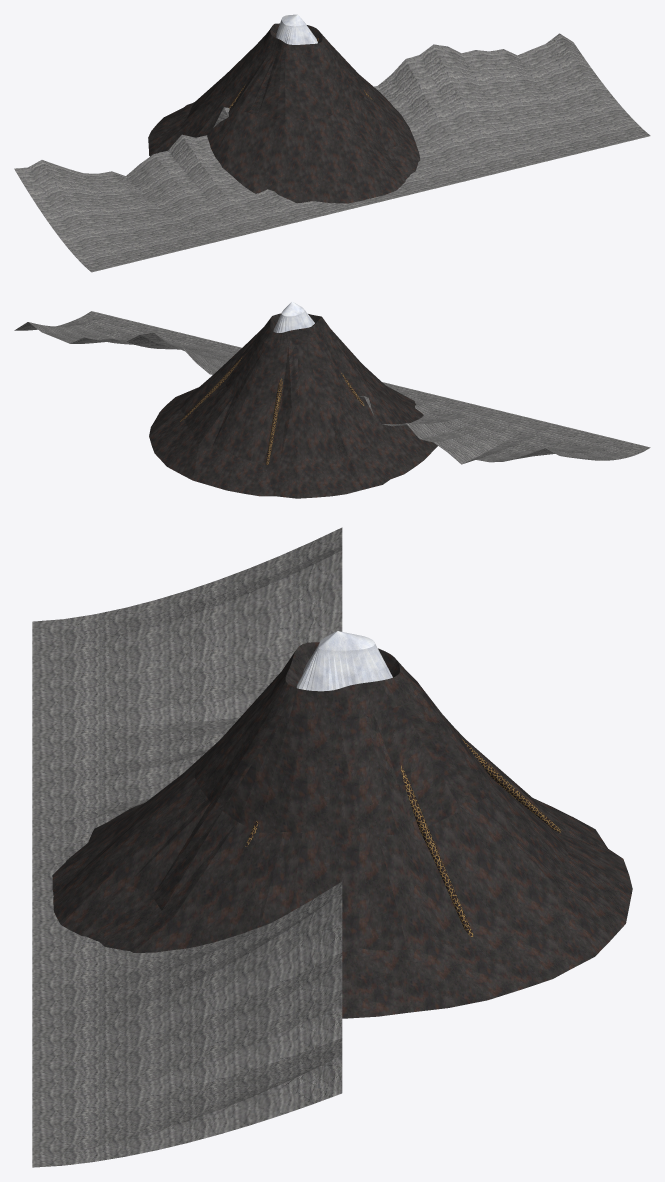
File: Tla.glb
3 views of the same model, one above another, from view 1: azimuth 30°, elevation 25°; view 2: azimuth 150°, elevation 25°; view 3: azimuth 270°, elevation 25° (orthographic). The views are drawn at different scales.
Parts seen in each view (by area): view 1: gory_tlo__cliff_grey, wulkan_tlo__basalt, szczyt_osniezony__snow; view 2: wulkan_tlo__basalt, gory_tlo__cliff_grey, wulkan_tlo__lava, szczyt_osniezony__snow; view 3: gory_tlo__cliff_grey, wulkan_tlo__basalt, szczyt_osniezony__snow, wulkan_tlo__lava.
Boxes of the visible parts, x1,y1,x2,y2 form: gory_tlo__cliff_grey: (14, 33, 650, 272); wulkan_tlo__basalt: (148, 23, 420, 203); szczyt_osniezony__snow: (276, 14, 317, 44); wulkan_tlo__basalt: (149, 313, 437, 498); gory_tlo__cliff_grey: (14, 311, 650, 464); wulkan_tlo__lava: (180, 356, 365, 464); szczyt_osniezony__snow: (273, 301, 314, 332); gory_tlo__cliff_grey: (32, 527, 342, 1167); wulkan_tlo__basalt: (52, 642, 632, 1018); szczyt_osniezony__snow: (296, 631, 392, 691); wulkan_tlo__lava: (245, 738, 561, 936).
Bounding box in the file's own units: 400 × 98.35 × 186.
8 materials, 8 textured.
